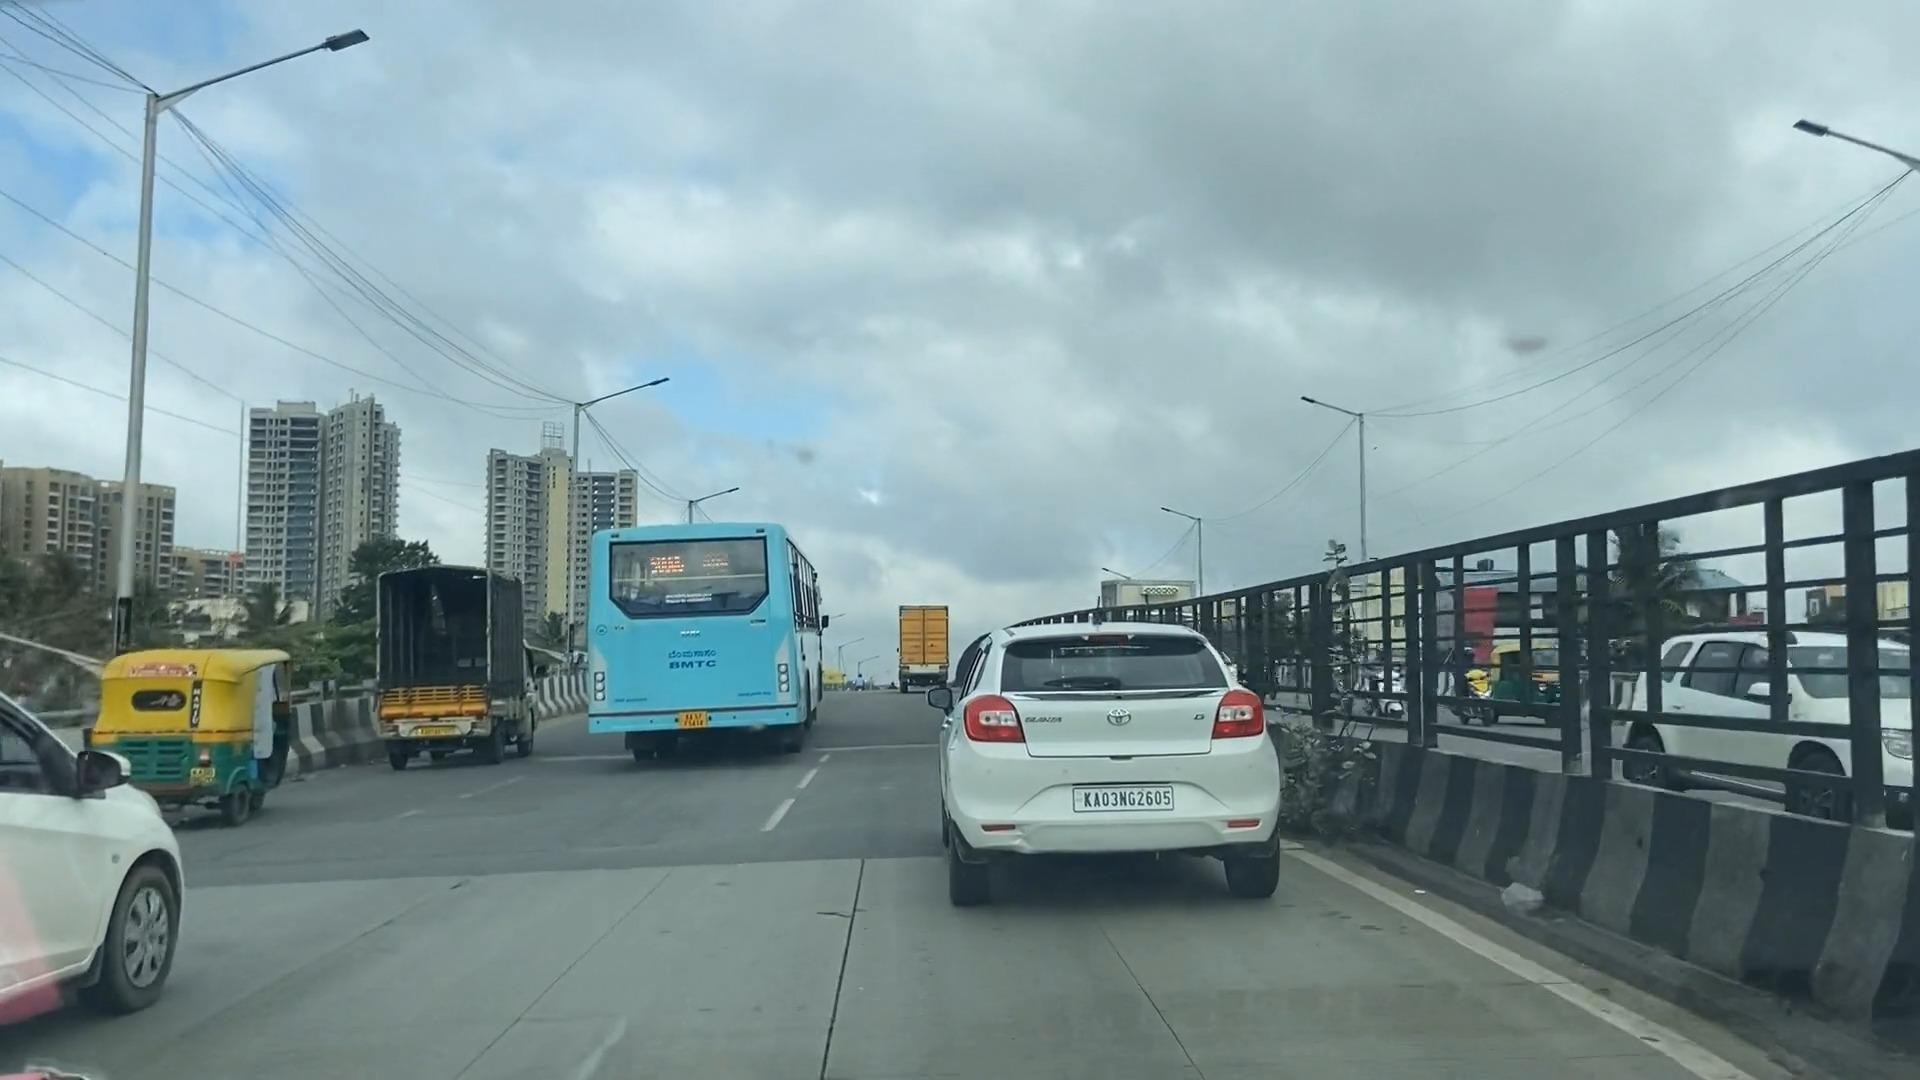HMV: (571, 492, 841, 782), (372, 549, 559, 785), (884, 589, 960, 703)
